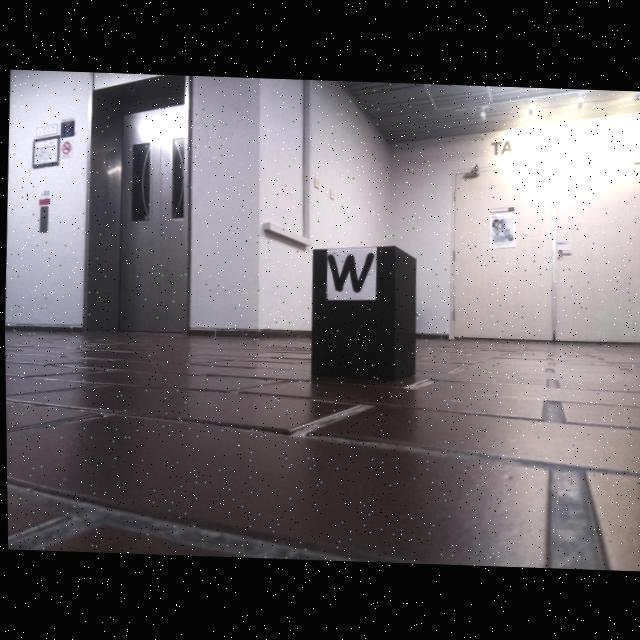W: (327, 252, 374, 293)
